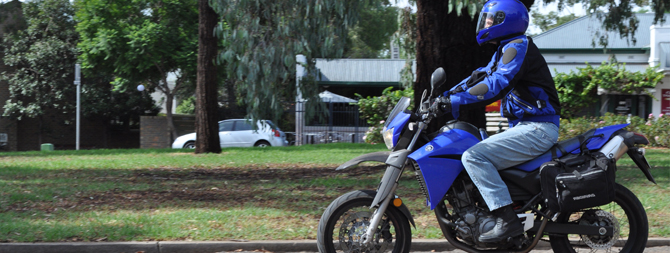helmet: (463, 2, 534, 45)
